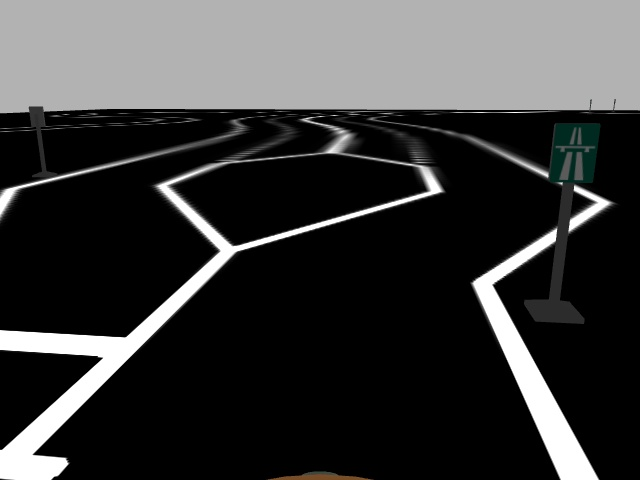enter_highway: (545, 121, 602, 184)
